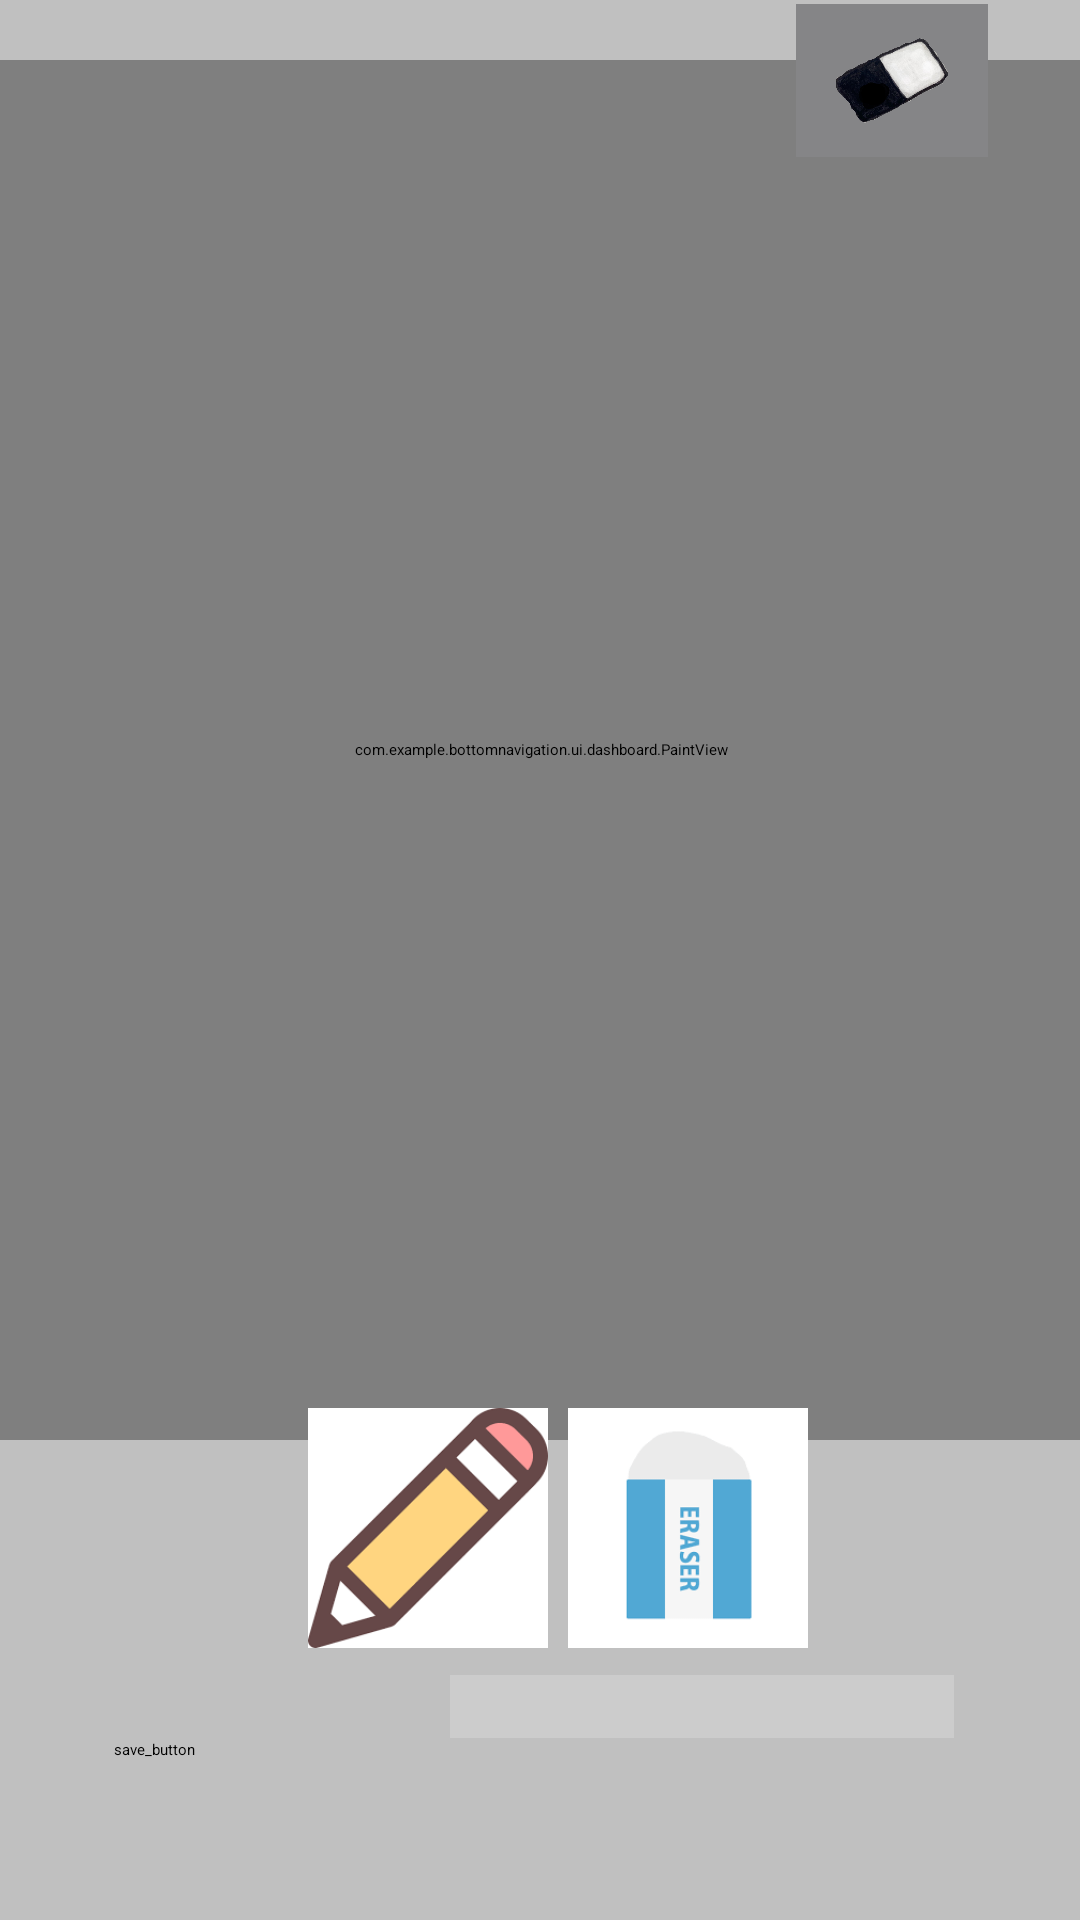

Icon bounding boxes for this 1080px x 1920px phone screenshot, format {"left": x1, "top": y1, "right": x2, "bottom": y2}:
brush: {"left": 308, "top": 1408, "right": 548, "bottom": 1648}
delete: {"left": 836, "top": 38, "right": 948, "bottom": 123}
